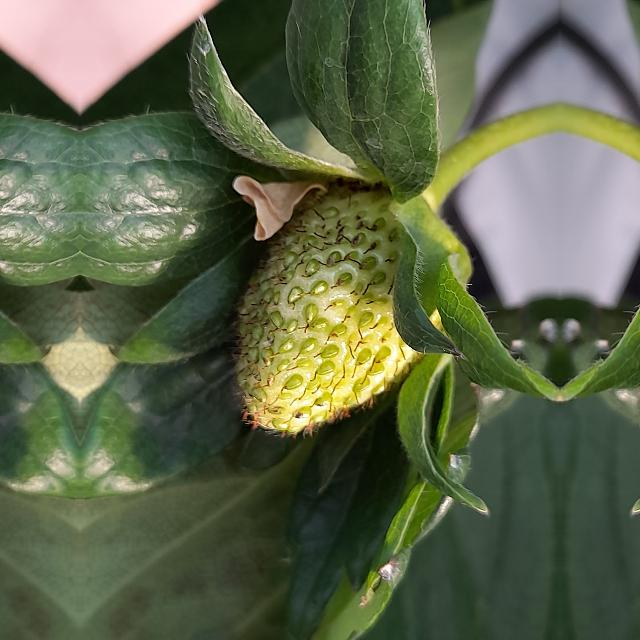Health_25: (228, 182, 428, 438)
